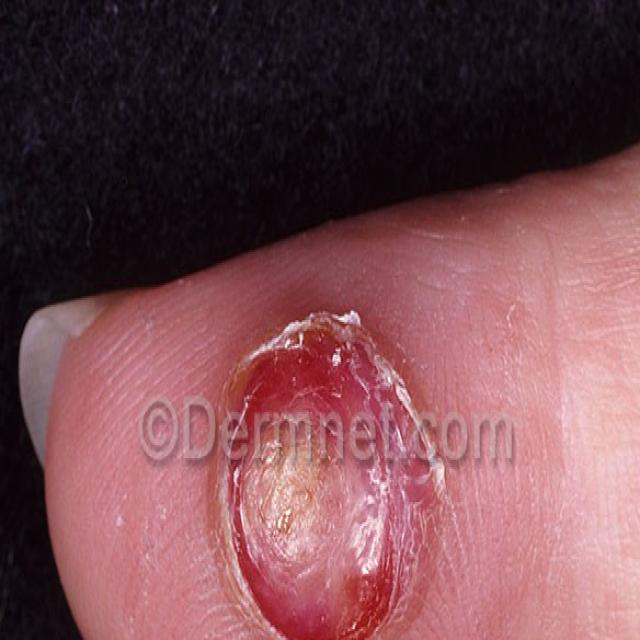Vascular Tumors: (173, 300, 481, 640)
